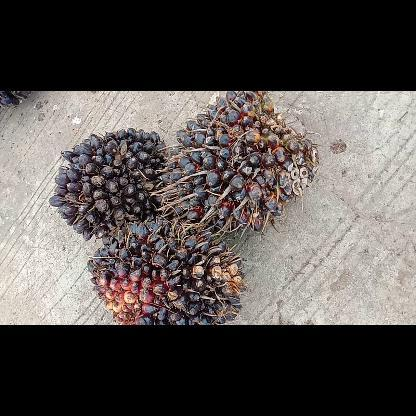TBS mentah: (162, 91, 320, 235), (85, 218, 250, 324), (46, 125, 180, 243)
